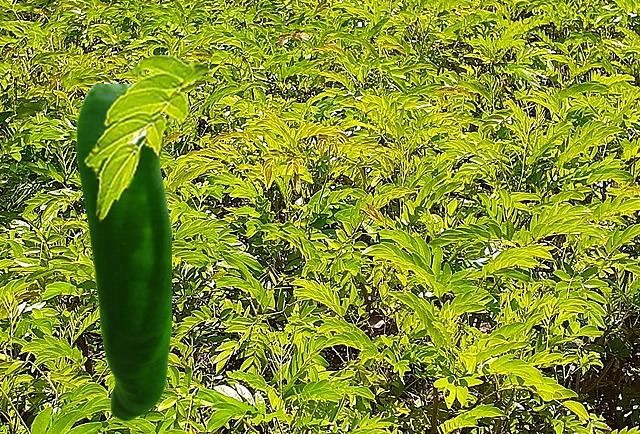green_chili: (76, 84, 170, 420)
